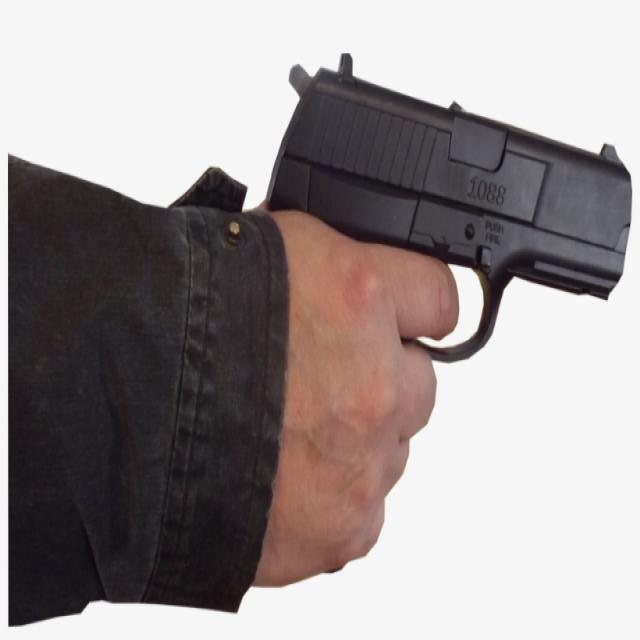HandGun: (265, 56, 633, 364)
